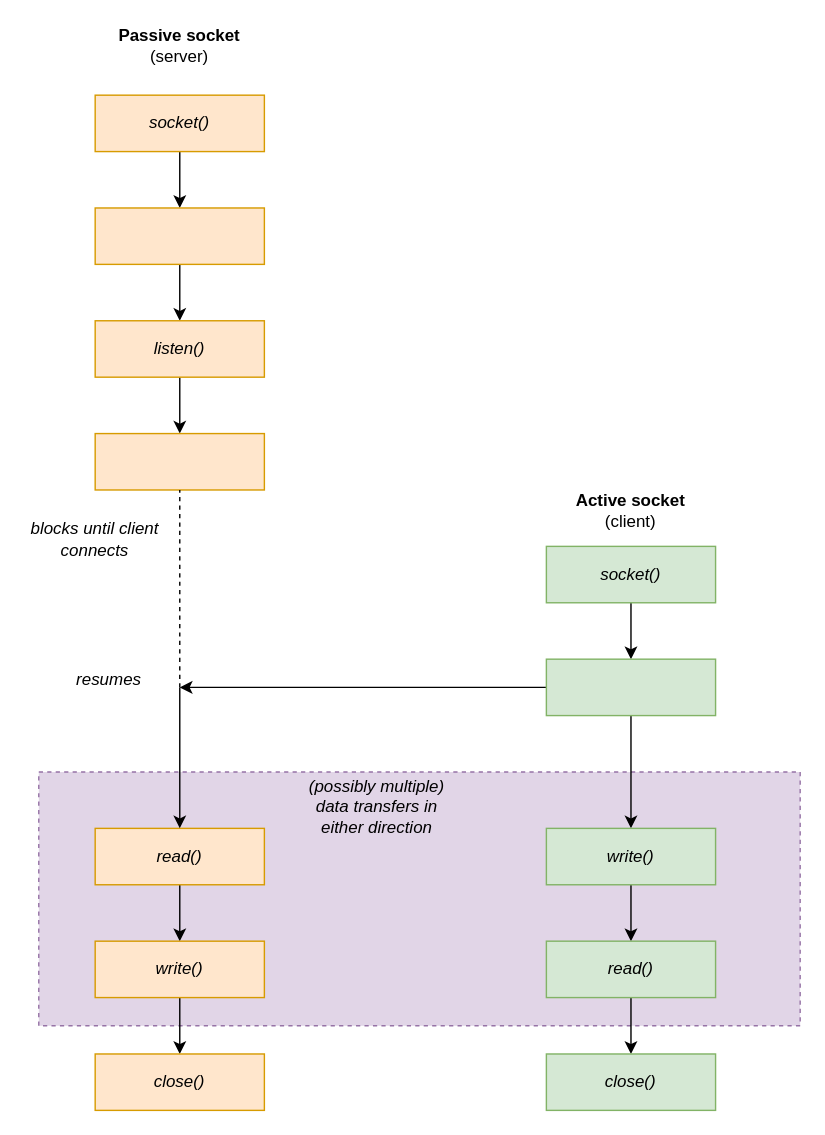
Some shapes in this 825 by 1135 pixel diagram are drawn without their labels. Each missing label, with the centre of its shape:
accept(): the point at 179,461
bind(): the point at 179,235
connect(): the point at 630,687
